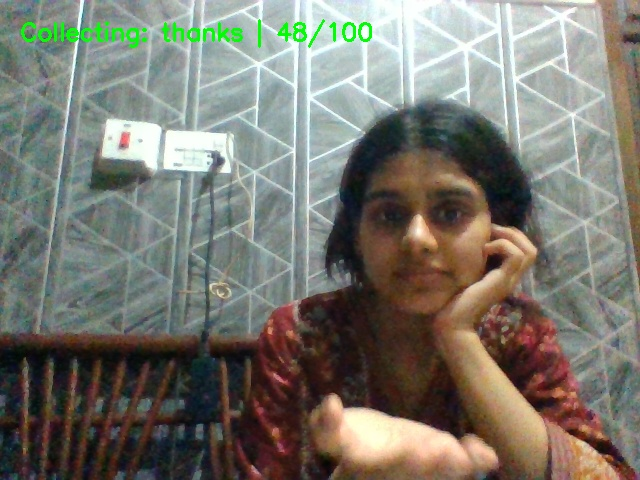thanks: (297, 360, 523, 480)
